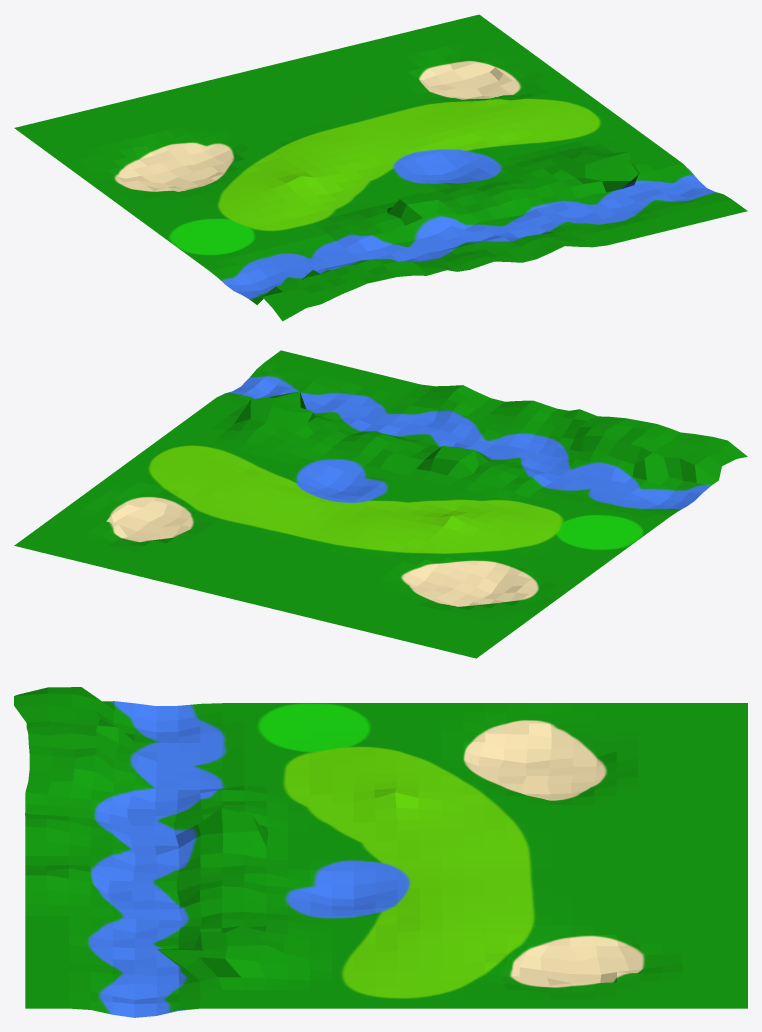
Rendered from Course1.fbx.
The picture shows the model from 3 angles, top to bottom: view 1: azimuth 30°, elevation 25°; view 2: azimuth 150°, elevation 25°; view 3: azimuth 270°, elevation 25°; orthographic projection. The views are drawn at different scales.
Visible parts, largest first — view 1: Plane; view 2: Plane; view 3: Plane.
Part boxes in pixels (<box>): Plane: <box>14,14,747,321</box>; Plane: <box>14,350,747,658</box>; Plane: <box>14,687,747,1017</box>.
Bounding box in the file's own units: 4020 × 255 × 4062.
Materials: 1 (1 with a texture image).
